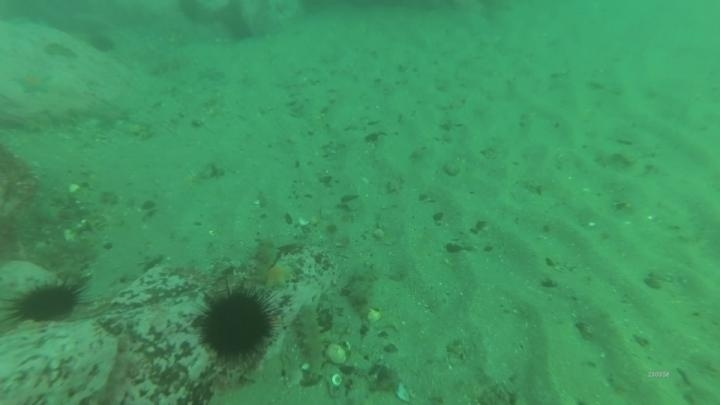echinus: (194, 284, 278, 368), (7, 277, 86, 326), (86, 30, 118, 56)
holothurian: (291, 301, 330, 388), (246, 234, 281, 287)
starfish: (11, 66, 54, 98), (259, 259, 297, 291)
